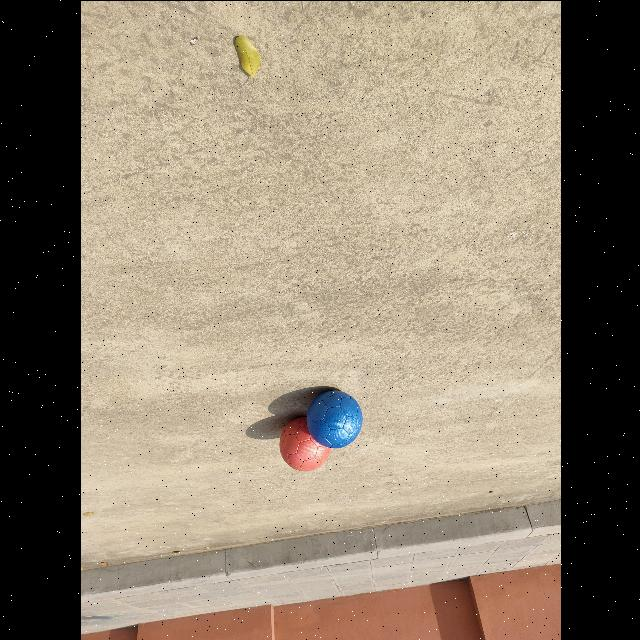B: (306, 389, 362, 447)
R: (279, 416, 329, 471)
